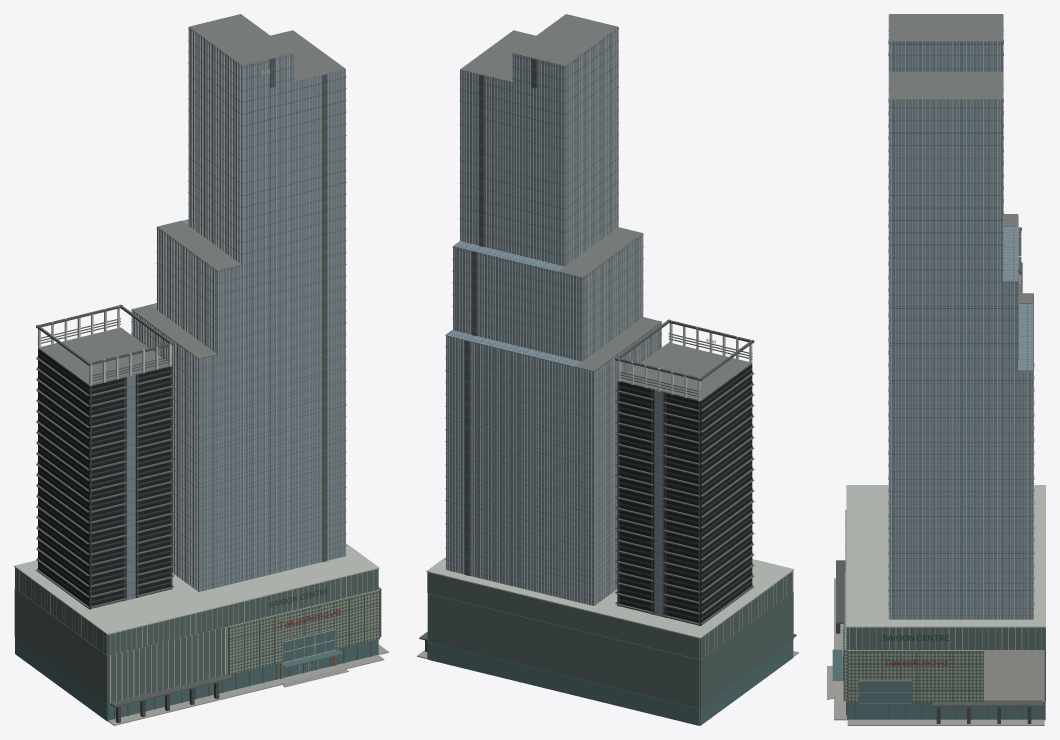
Rendered from exterior.glb.
3 views of the same model, side by side, from view 1: azimuth 30°, elevation 25°; view 2: azimuth 150°, elevation 25°; view 3: azimuth 270°, elevation 25° (orthographic). The views are drawn at different scales.
Visible parts, largest first — view 1: tower_2_glazing_and_mullions, podium_cladding_glazing, tower_1_horizontal_ribbons, tower_2_setback_terraces, tower_1_open_crown, ground_entrances_and_storefront, attached_steps_and_threshold, canopy_columns_and_soffit; view 2: tower_2_glazing_and_mullions, tower_1_horizontal_ribbons, podium_cladding_glazing, tower_2_setback_terraces, ground_entrances_and_storefront, tower_1_open_crown; view 3: tower_2_glazing_and_mullions, podium_cladding_glazing, tower_2_setback_terraces, ground_entrances_and_storefront, attached_steps_and_threshold, canopy_columns_and_soffit, supported_signage_atlas.
Part boxes in pixels (x1,y1,x2,y2): tower_2_glazing_and_mullions: (131,27,346,591); podium_cladding_glazing: (14,543,381,703); tower_1_horizontal_ribbons: (36,349,173,609); tower_2_setback_terraces: (131,14,345,358); tower_1_open_crown: (36,304,174,386); ground_entrances_and_storefront: (15,637,378,721); attached_steps_and_threshold: (108,644,388,725); canopy_columns_and_soffit: (110,649,343,722); tower_2_glazing_and_mullions: (445,27,661,605); tower_1_horizontal_ribbons: (615,364,754,625); podium_cladding_glazing: (426,557,794,725); tower_2_setback_terraces: (460,14,661,371); ground_entrances_and_storefront: (427,641,793,725); tower_1_open_crown: (615,319,754,401); tower_2_glazing_and_mullions: (888,14,1034,619); podium_cladding_glazing: (842,485,1045,703); tower_2_setback_terraces: (889,14,1033,303); ground_entrances_and_storefront: (846,701,1045,720); attached_steps_and_threshold: (827,578,1044,725); canopy_columns_and_soffit: (832,560,1042,723); supported_signage_atlas: (883,635,948,667).
Size of the model in its own units: 91.95 by 188 by 57.83.
15 materials, 4 textured.
